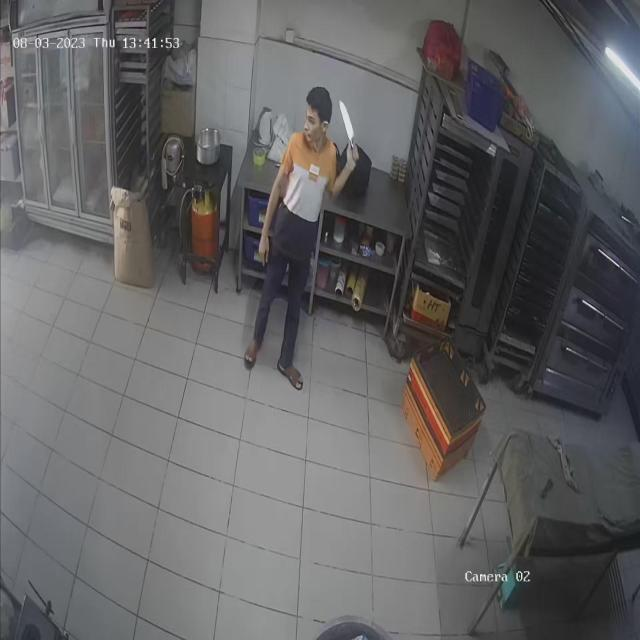Knife: (336, 99, 360, 158)
